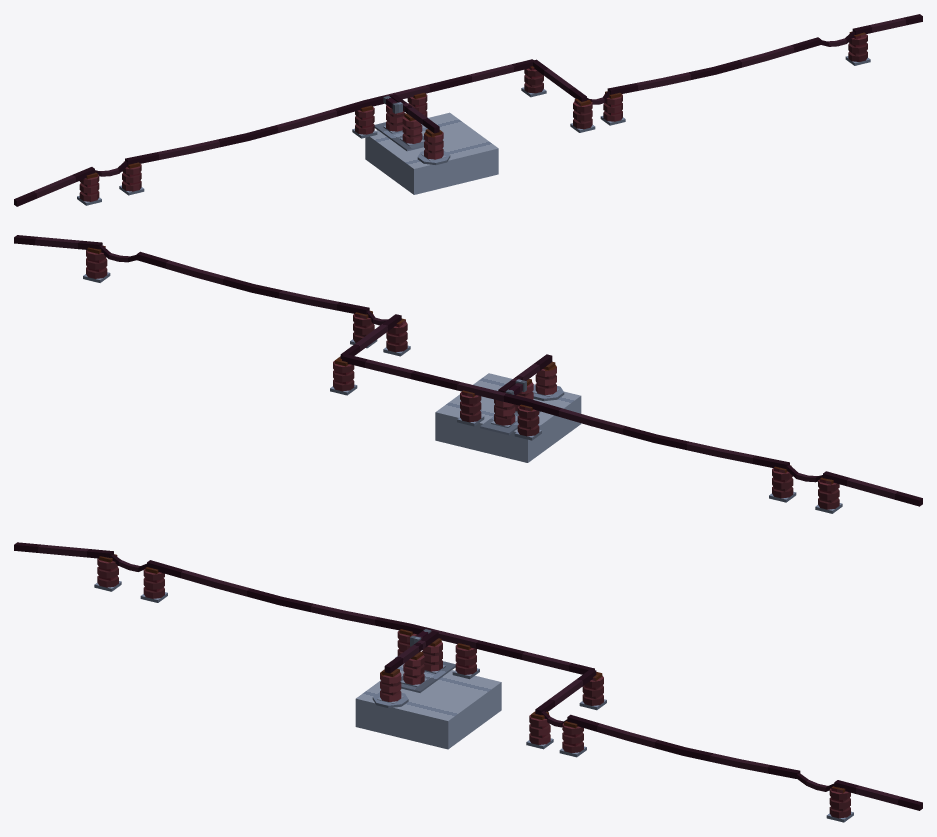
The model's file is ss3_roof.obj.
3 views of the same model, one above another, from view 1: azimuth 30°, elevation 25°; view 2: azimuth 150°, elevation 25°; view 3: azimuth 330°, elevation 25° (orthographic). The views are drawn at different scales.
Visible parts, largest first — view 1: cube; view 2: cube; view 3: cube.
Boxes of the visible parts, box(x1,y1,x2,y2) form: cube: box(14, 14, 922, 206); cube: box(14, 235, 922, 513); cube: box(14, 542, 922, 822).
Size of the model in its own units: 10.25 by 0.6841 by 1.19.
